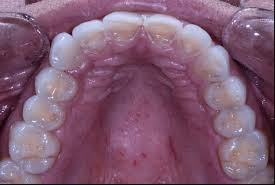UL1BC_healthy: (205, 78, 246, 107)
UL1M_healthy: (219, 133, 269, 177)
UL2BC_healthy: (216, 108, 257, 135)
ULCI_healthy: (144, 14, 182, 46)
ULC_healthy: (197, 48, 230, 82)
ULLI_healthy: (182, 25, 210, 55)
UR1BC_healthy: (36, 69, 78, 102)
UR1M_healthy: (9, 122, 60, 173)
UR2BC_healthy: (21, 95, 66, 129)
URCI_healthy: (104, 11, 142, 43)
URC_healthy: (50, 33, 84, 70)
URLI_healthy: (72, 19, 105, 51)
